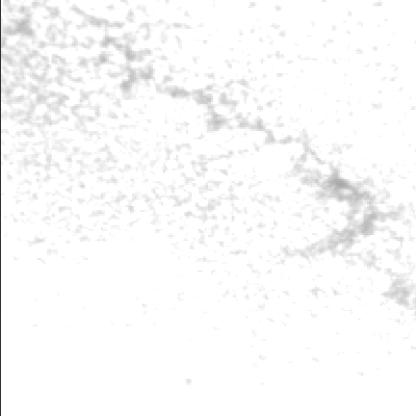pitted_surface: (8, 2, 416, 408)
